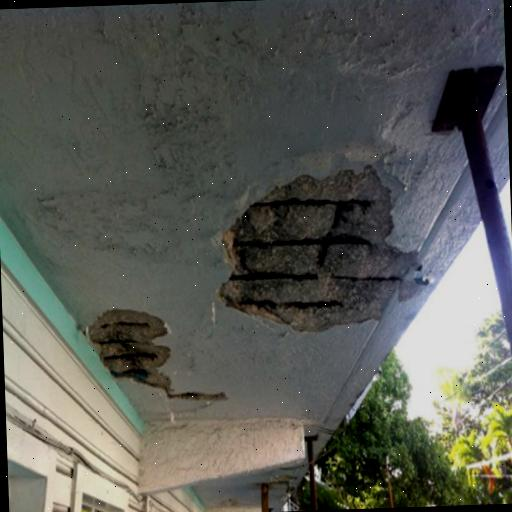spalling: (210, 167, 429, 335)
